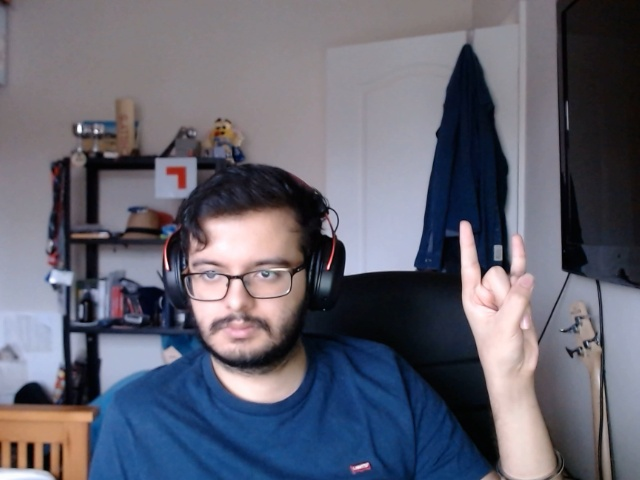Rock on: (449, 218, 540, 384)
